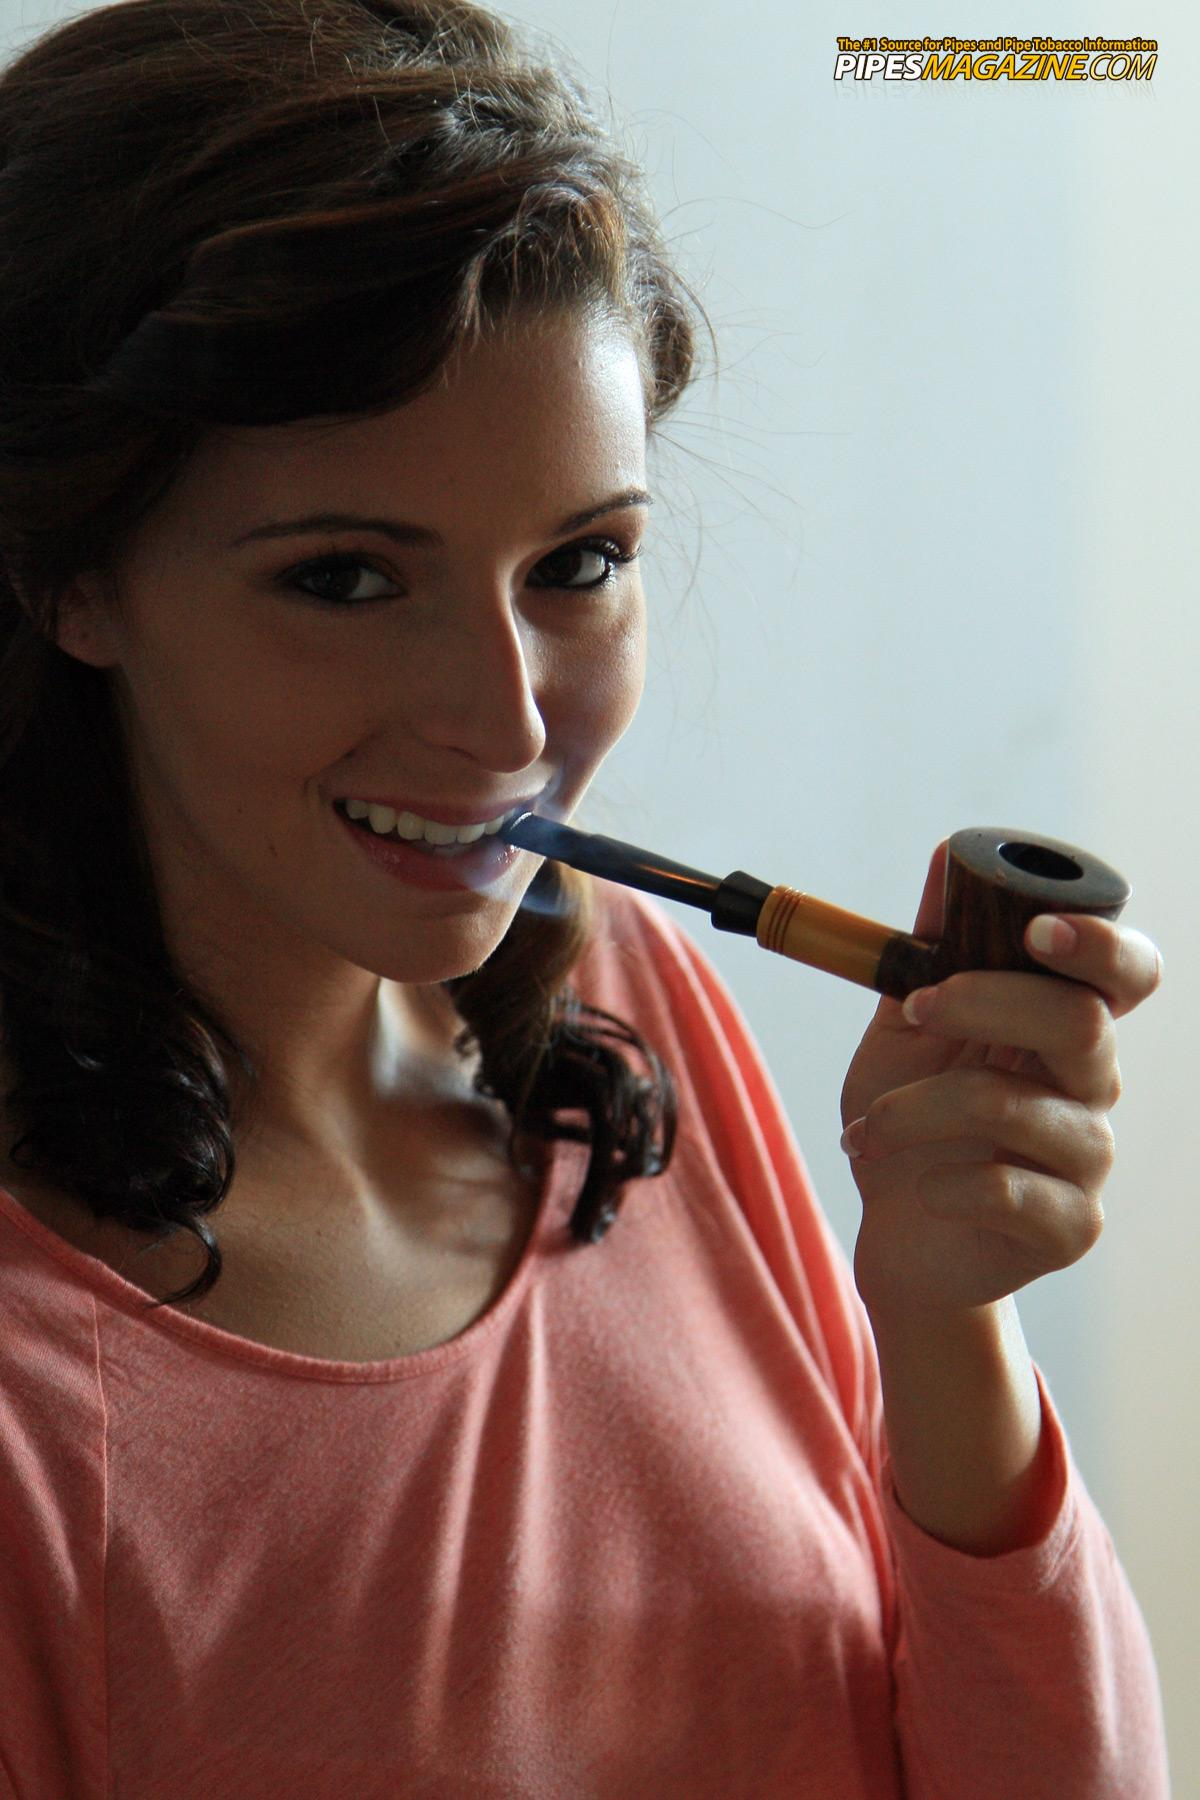trubka: (500, 816, 1129, 999)
